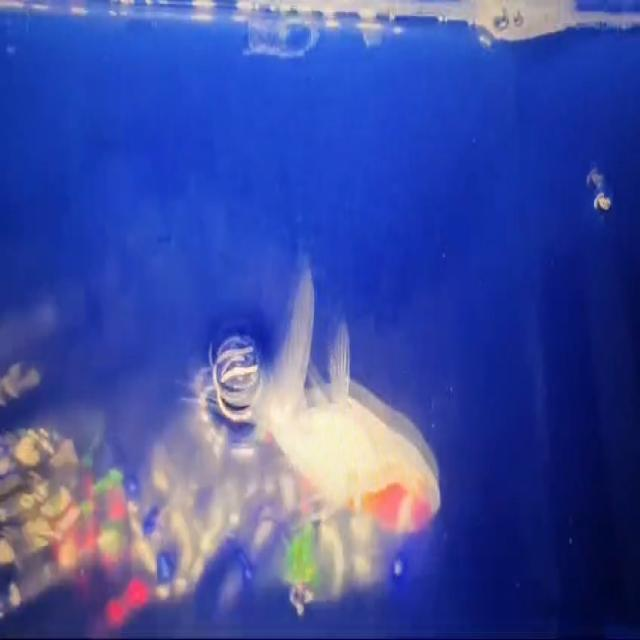fish: (221, 269, 448, 547)
